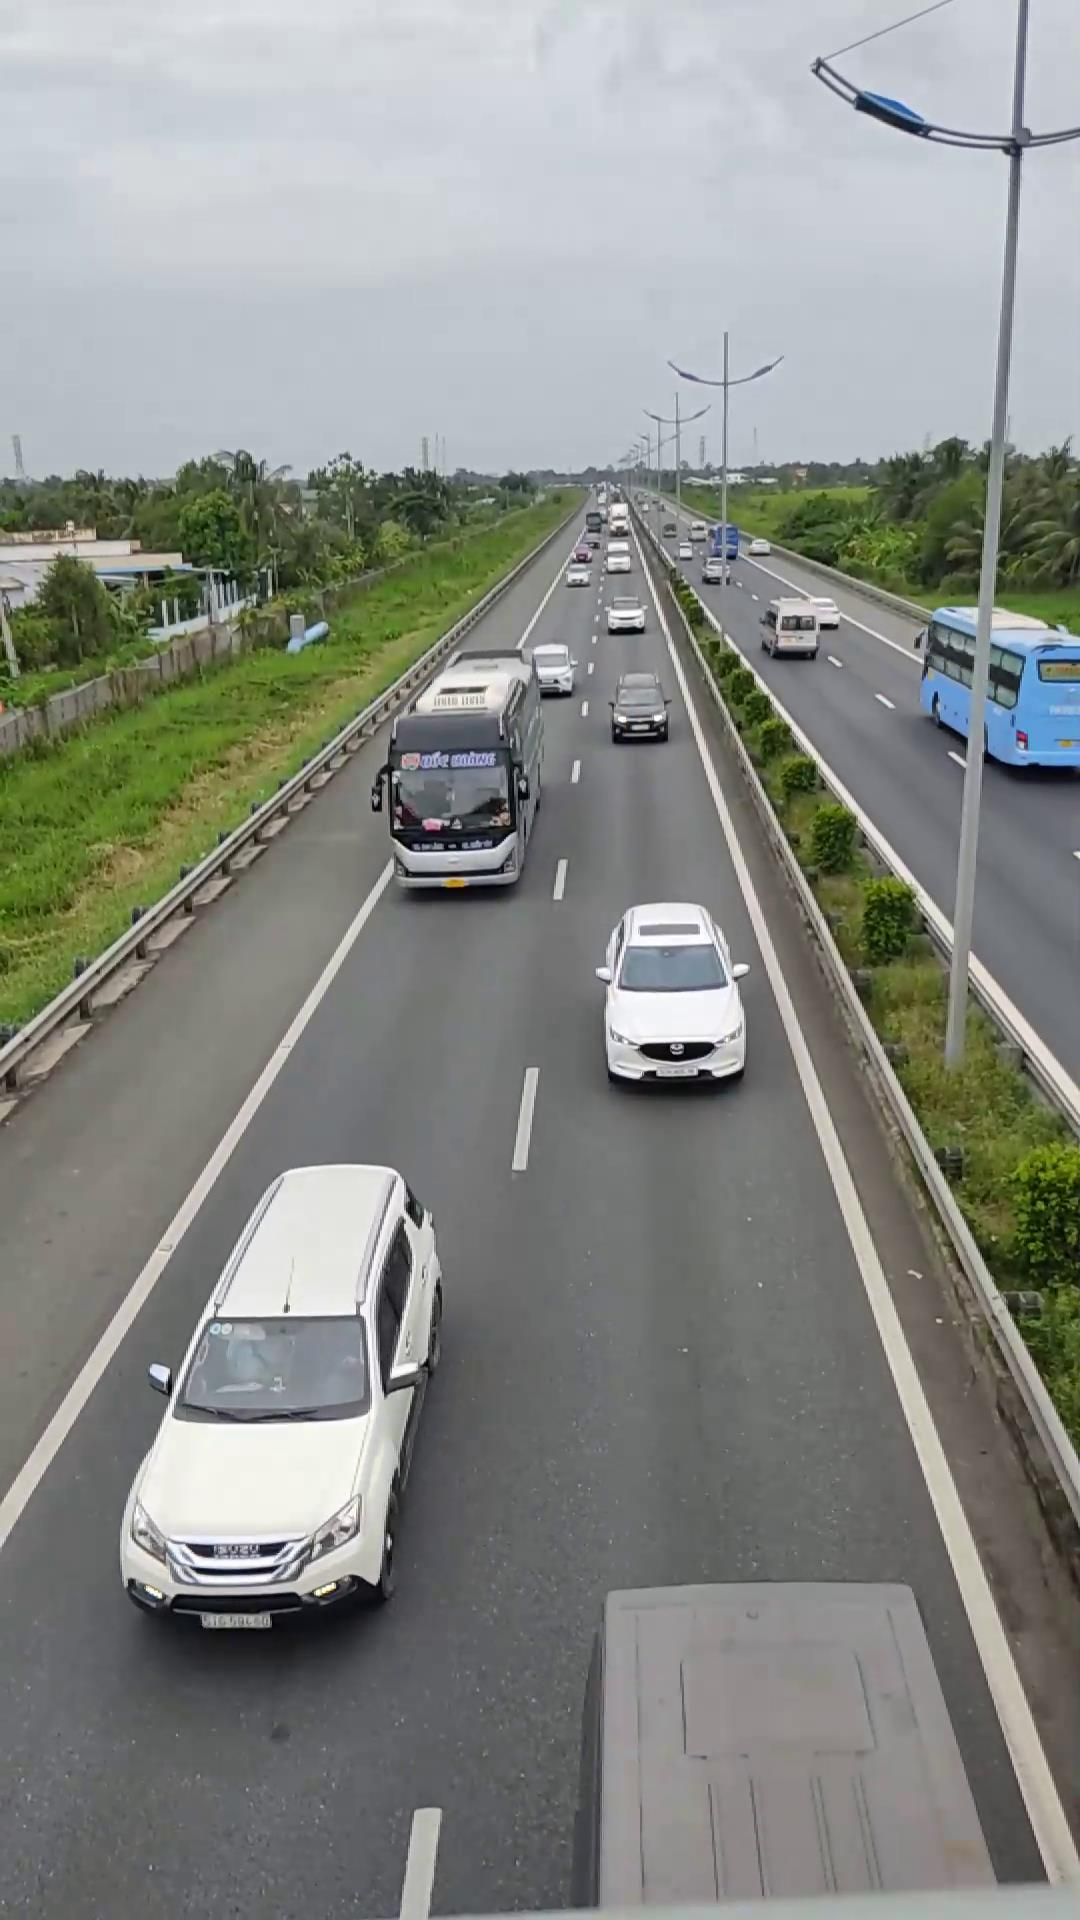bus: (377, 637, 546, 901)
car: (113, 1160, 446, 1631), (593, 899, 749, 1089), (607, 675, 671, 742)
